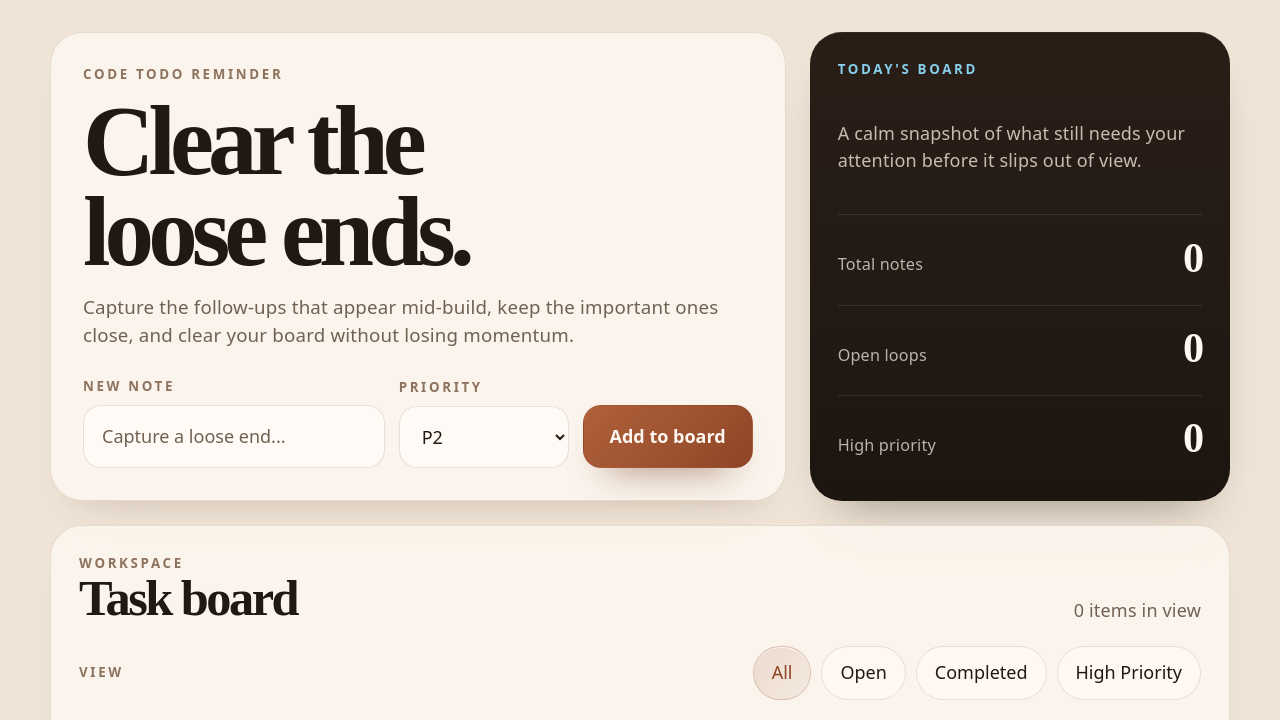
Scenario: App todo behavior › deletes a todo with a title-specific action
The image size is (1280, 720).
Type "Delete stale code" into the field with placeholder "Capture a loose end...". click: (234, 437)
box: [83,405,385,468]
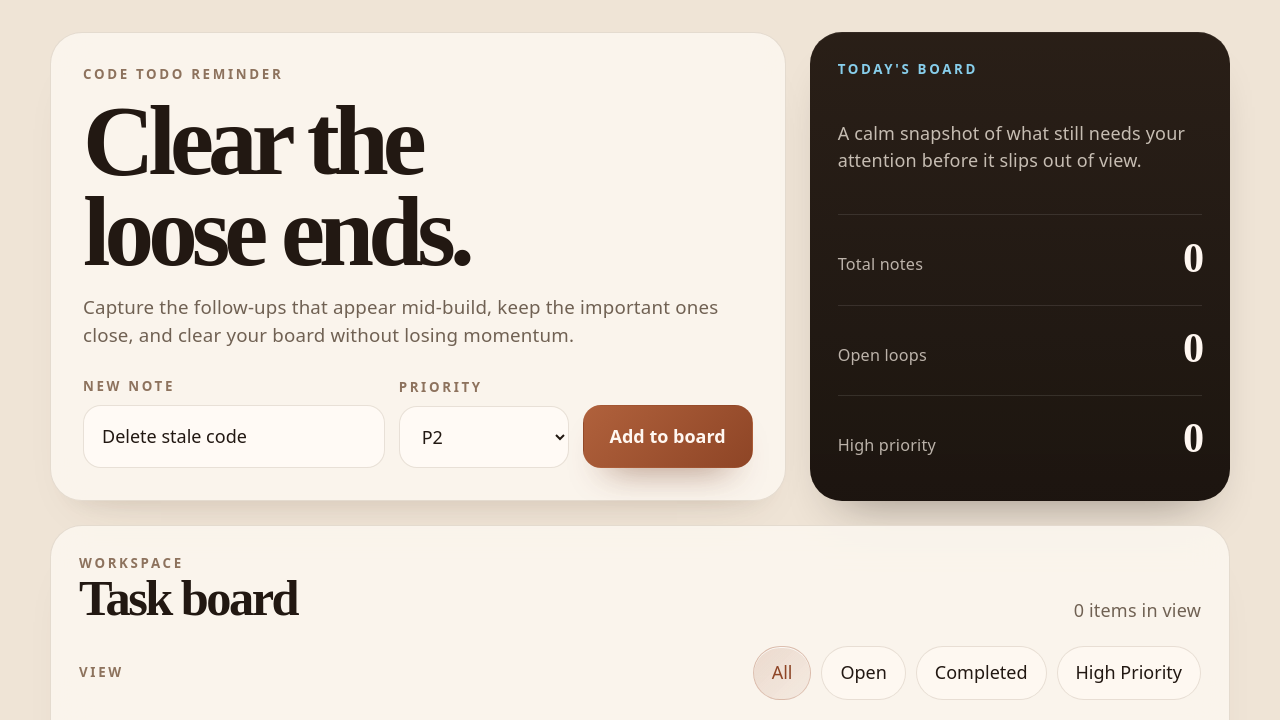
Select "P2" in the dropdown labelled "Priority". click: (484, 437)
box: [399,406,569,468]
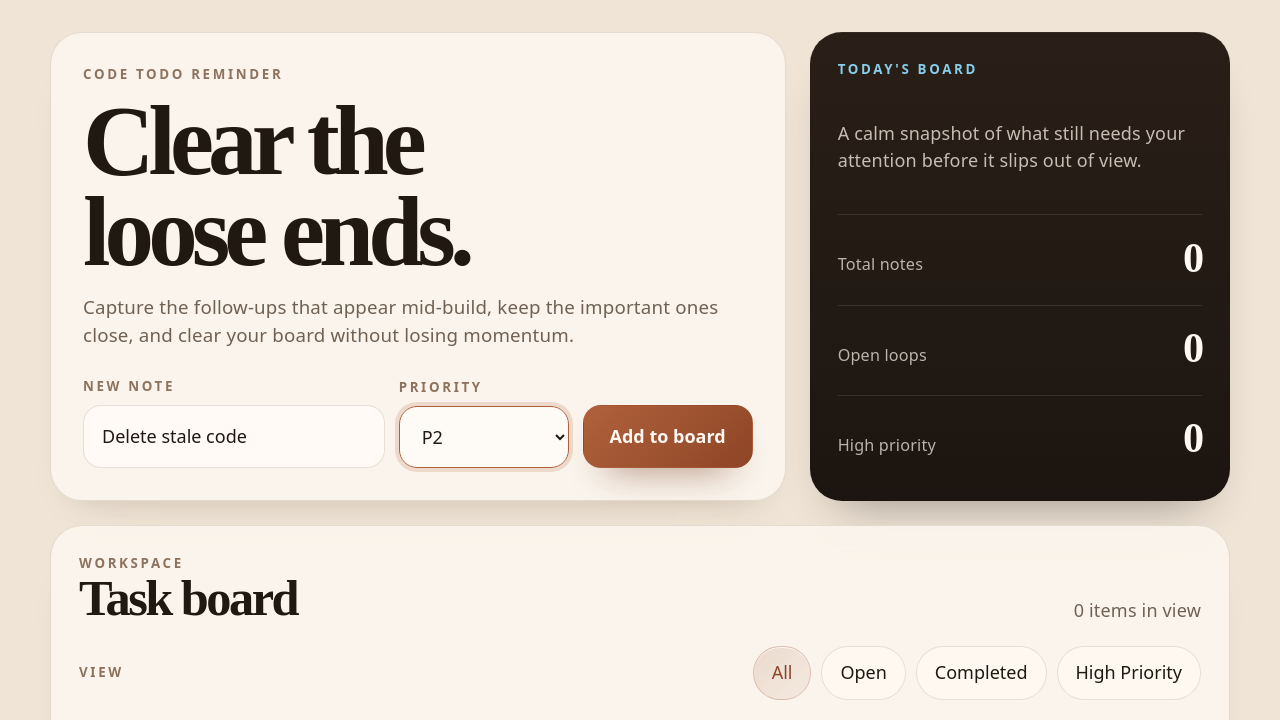
Click the button "Add to board". click: (668, 437)
box: [583,405,753,468]
(page scrolled)
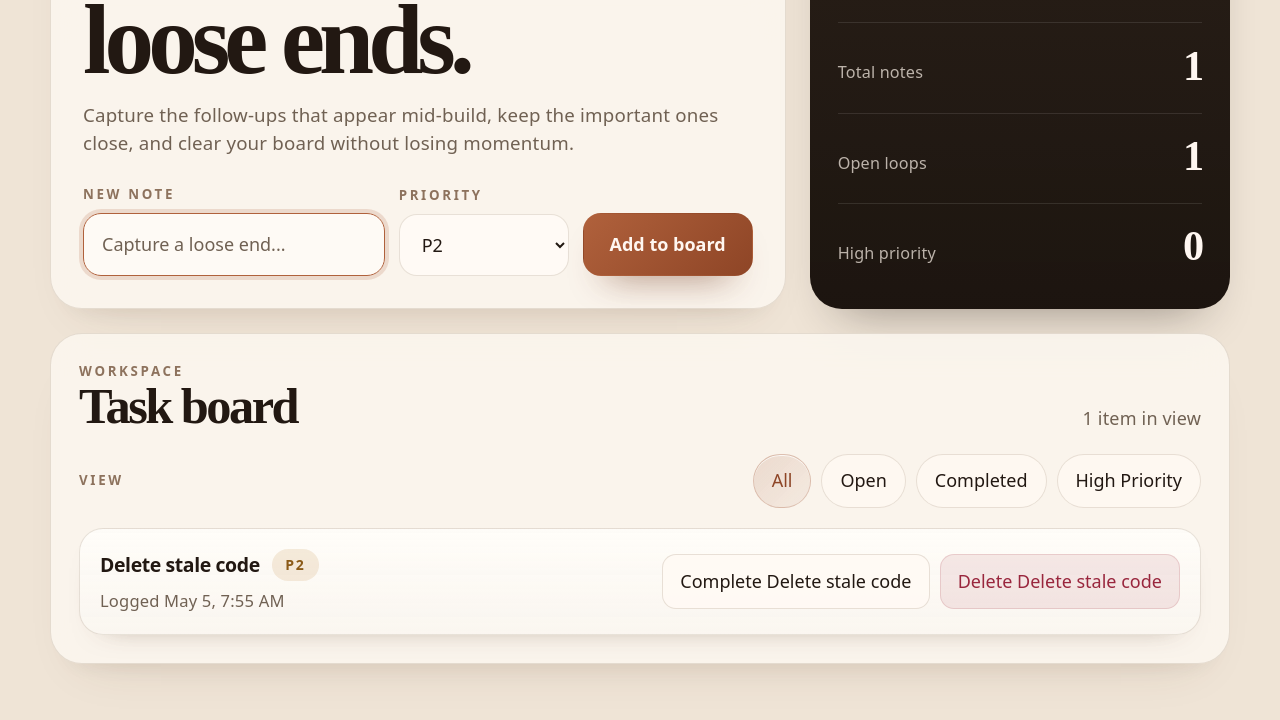
Click the button "Delete Delete stale code". click: (1060, 581)
box: [940,554,1180,609]
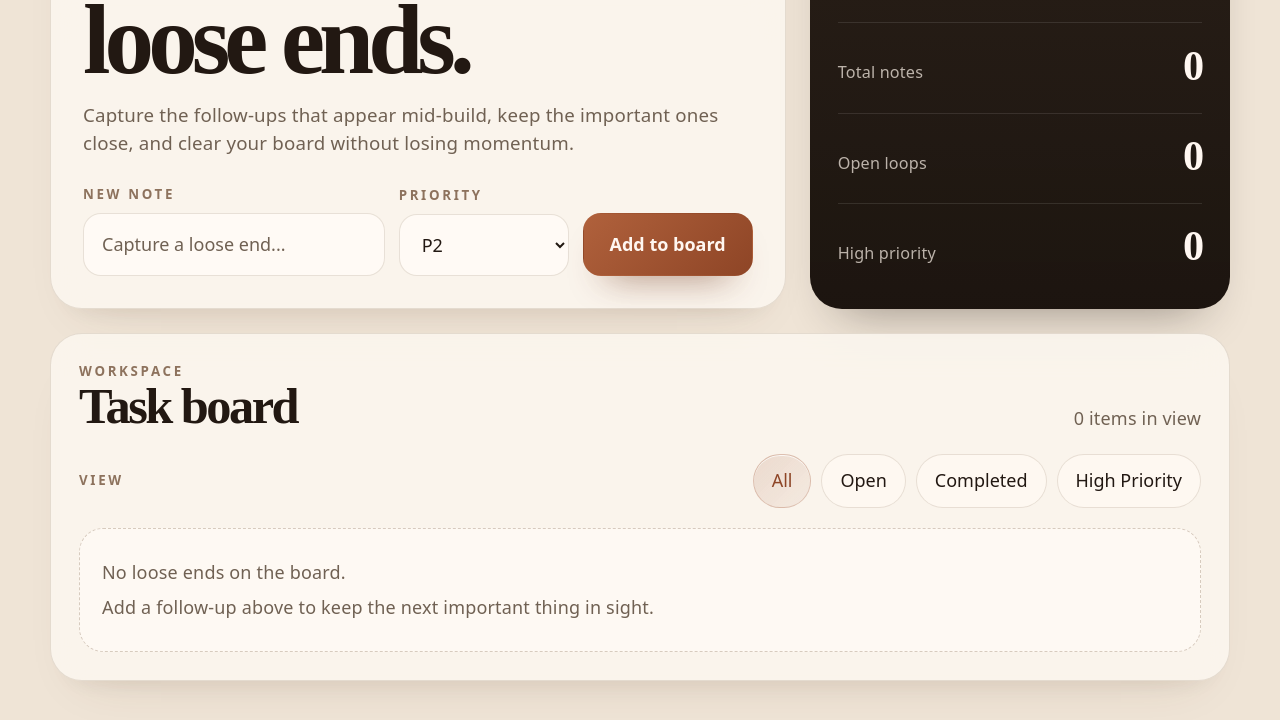
Now the text "Delete stale code" is gone
